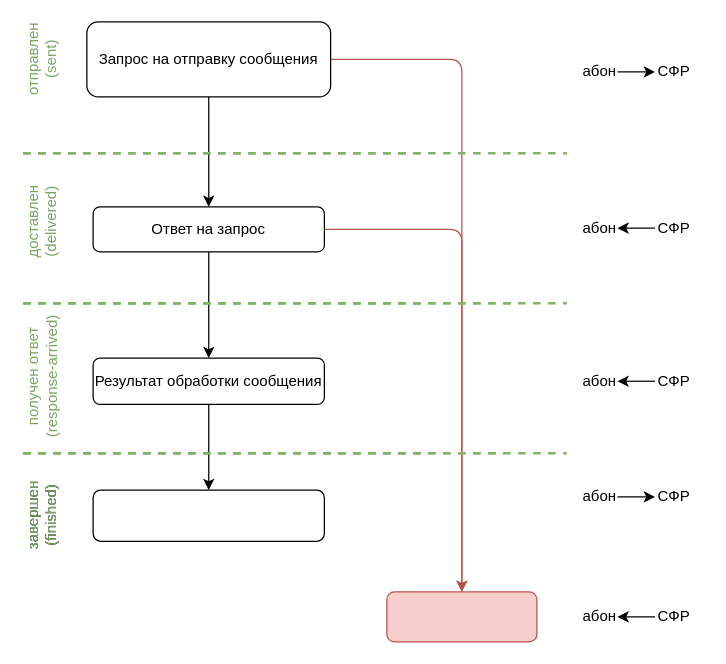
This 726x664 diagram has some shape labels left out. The centre of each missing label's shape, as x and y in pixels:
Отметка о прочтении: pixel 208 515
Ошибка: pixel 461 616
